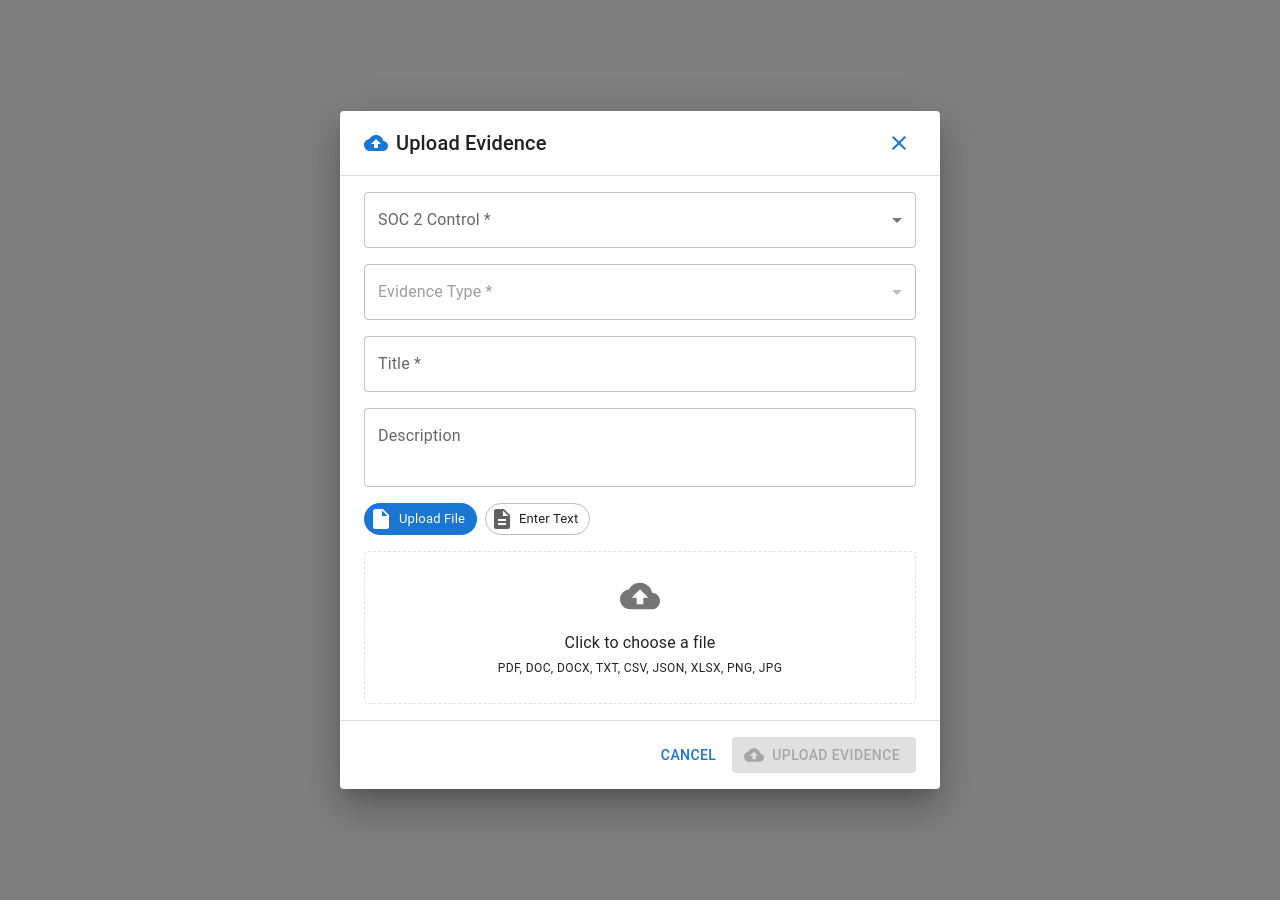
EvidenceUpload › upload mode toggle › switches back to file mode when Upload File is clicked
What coordinates should you click on to do the following:
click the button "Enter Text"
I would click on:
 (538, 519)
Its box is [485,503,590,535].
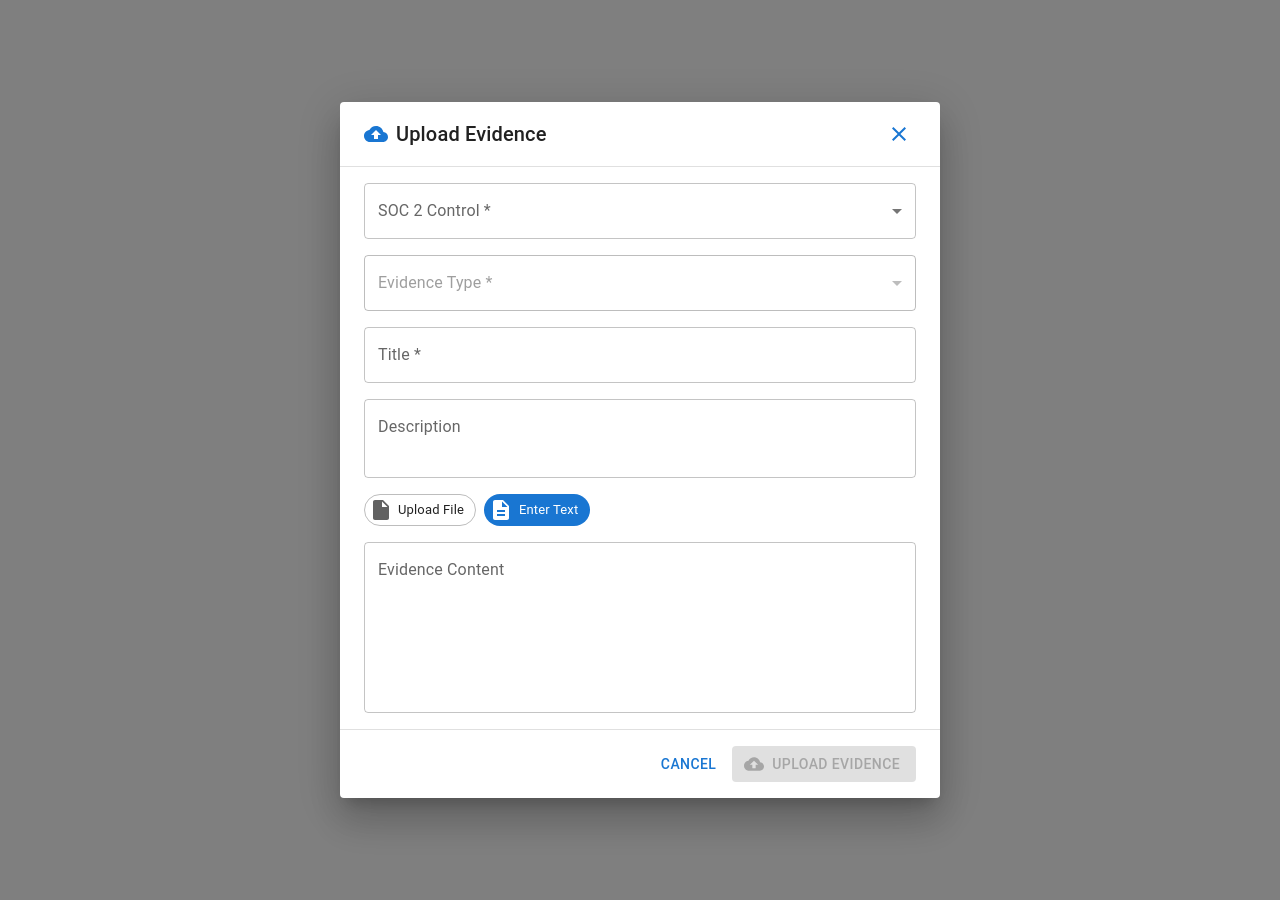
What coordinates should you click on to do the following:
click the button "Upload File"
I would click on:
 (420, 510)
Its box is [364,494,476,526].
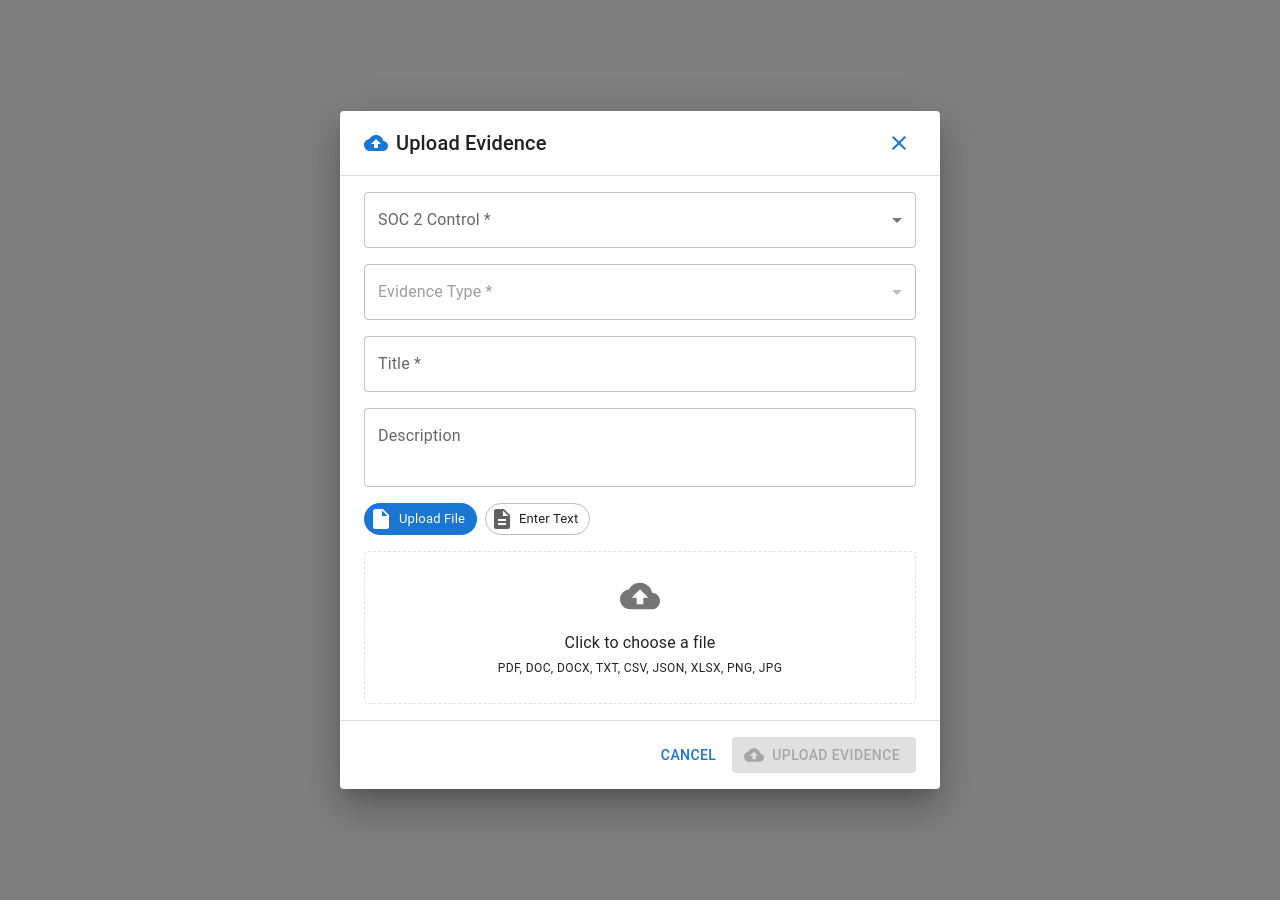
Expected: the text "Click to choose a file" is shown, [565,633,715,652]
